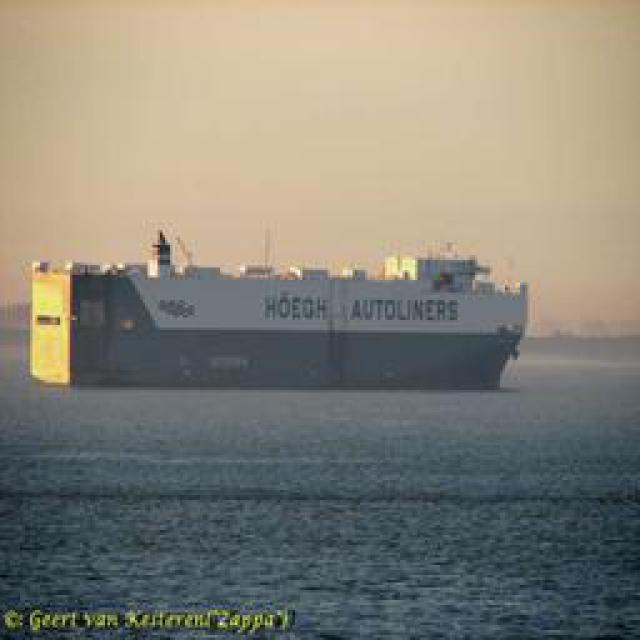Ship: (23, 231, 543, 404)
